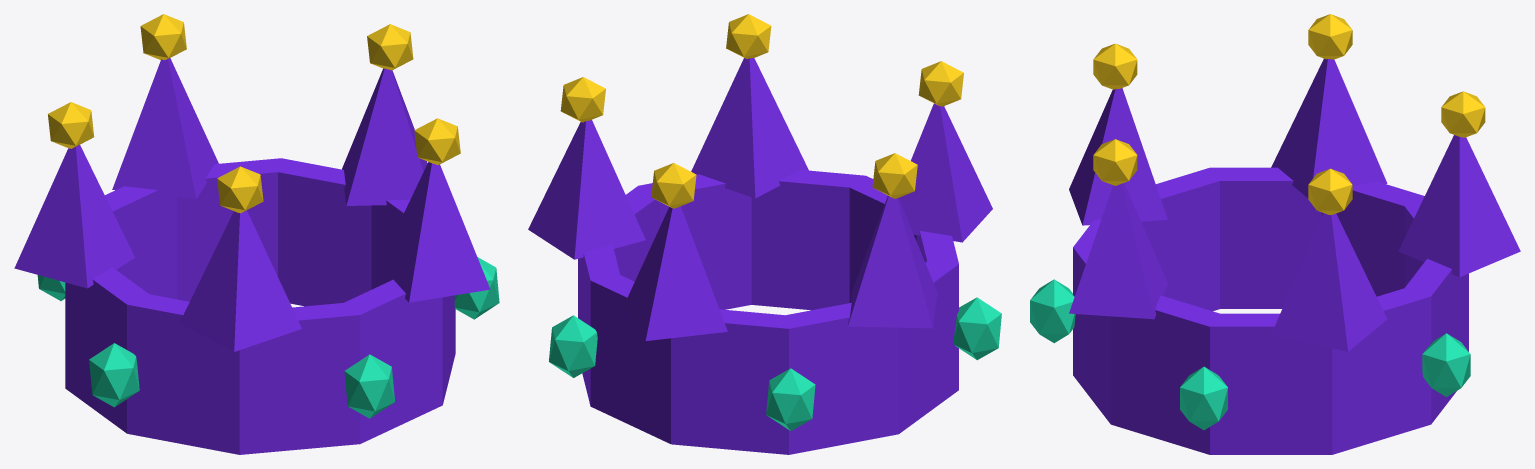
File: tac.glb
3 views of the same model, side by side, from view 1: azimuth 30°, elevation 25°; view 2: azimuth 150°, elevation 25°; view 3: azimuth 270°, elevation 25° (orthographic). The views are drawn at different scales.
Parts seen in each view (by area): view 1: tac; view 2: tac; view 3: tac.
Part boxes in pixels (x1,y1,x2,y2): tac: [14, 14, 499, 454]; tac: [528, 14, 1001, 454]; tac: [1030, 14, 1520, 454].
Bounding box in the file's own units: 0.894 × 0.5897 × 0.9232.
